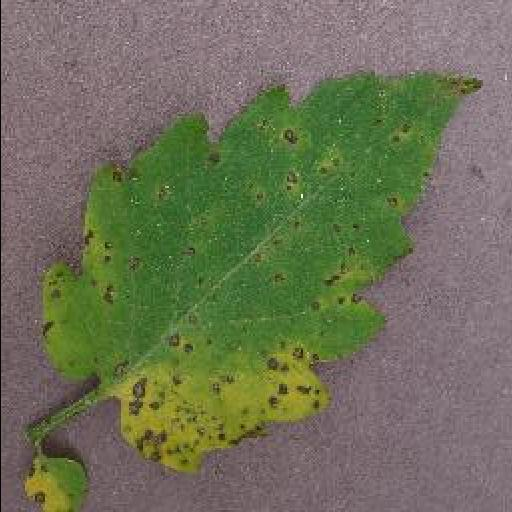disease_tomato: (39, 72, 481, 474)
